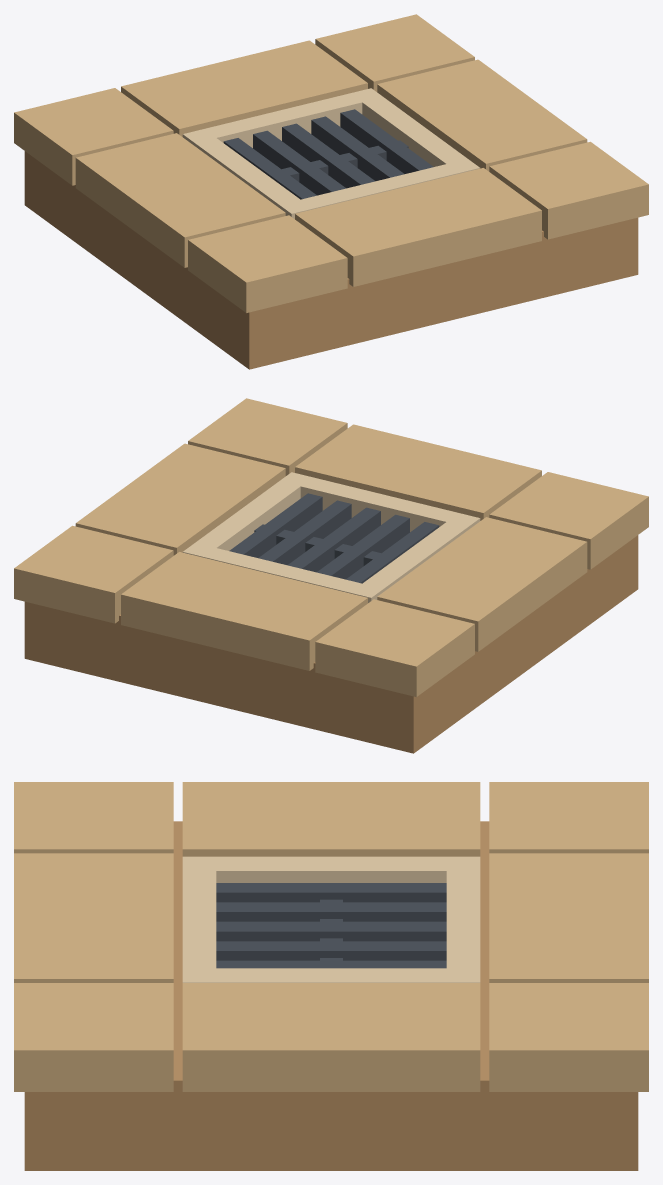
Rendered from dry-drain.lod1.glb.
The picture shows the model from 3 angles, top to bottom: view 1: azimuth 30°, elevation 25°; view 2: azimuth 150°, elevation 25°; view 3: azimuth 270°, elevation 25°; orthographic projection. The views are drawn at different scales.
Visible parts, largest first — view 1: dry-drain_lod1; view 2: dry-drain_lod1; view 3: dry-drain_lod1.
Part boxes in pixels (x1,y1,x2,y2): dry-drain_lod1: (14,14,648,369); dry-drain_lod1: (14,398,648,753); dry-drain_lod1: (14,782,648,1170).
Size of the model in its own units: 0.828 by 0.18 by 0.828.
